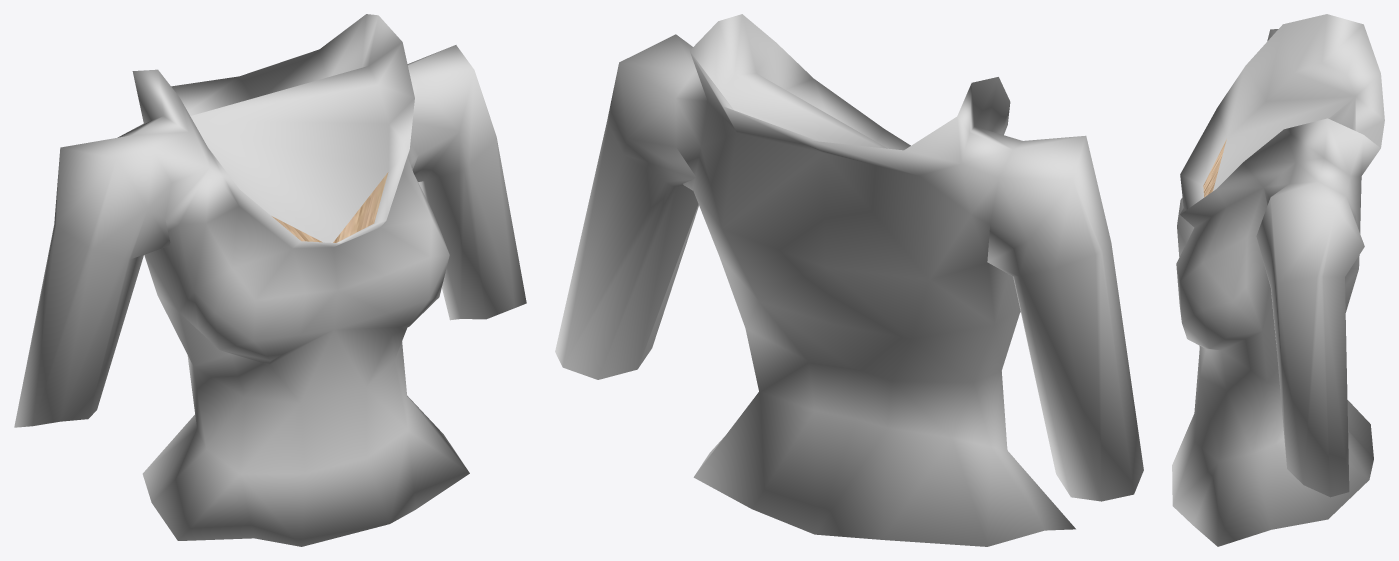
The model's file is STATIC_GS_ARMOR_KM_VLKBABE_02.glb.
3 views of the same model, side by side, from view 1: azimuth 30°, elevation 25°; view 2: azimuth 150°, elevation 25°; view 3: azimuth 270°, elevation 25° (orthographic). The views are drawn at different scales.
Visible parts, largest first — view 1: Mesh; view 2: Mesh; view 3: Mesh.
Part boxes in pixels (x1=…): Mesh: x1=14, y1=14, x2=526, y2=546; Mesh: x1=555, y1=14, x2=1143, y2=546; Mesh: x1=1172, y1=14, x2=1384, y2=546.
Bounding box in the file's own units: 0.6044 × 0.4984 × 0.2277.
Materials: 2 (1 with a texture image).
